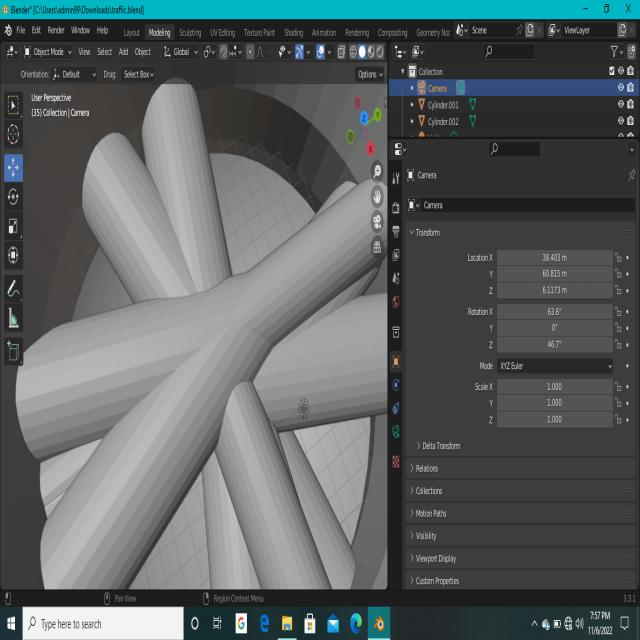person: (54, 123, 366, 582)
